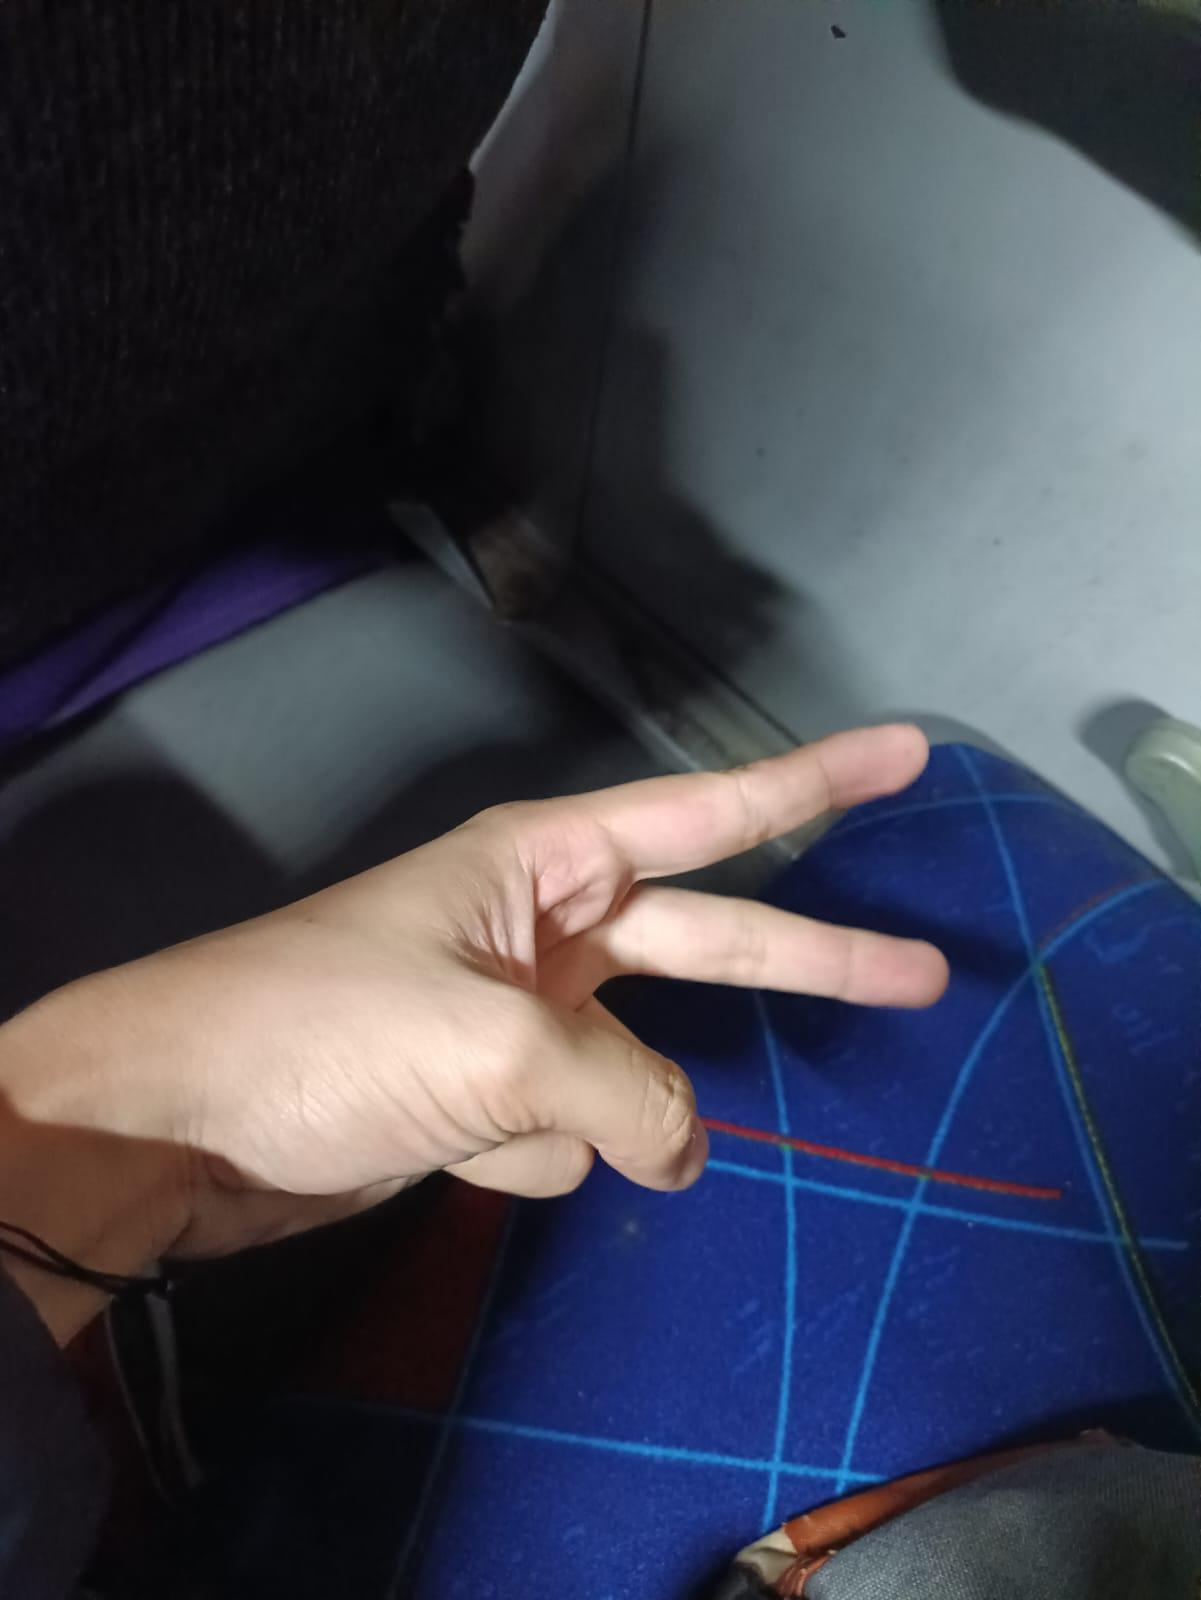Scissor: (0, 721, 947, 1325)
